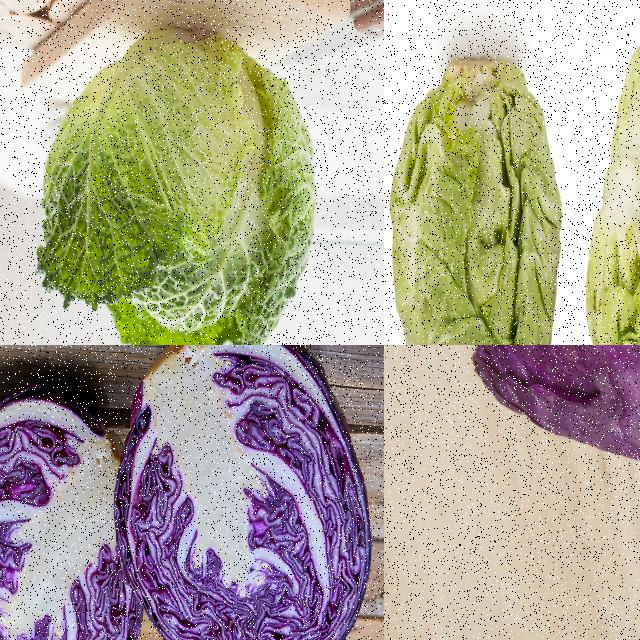cabbage: (30, 23, 319, 344), (114, 345, 374, 639), (386, 55, 564, 344), (0, 383, 145, 639), (461, 345, 639, 466)
